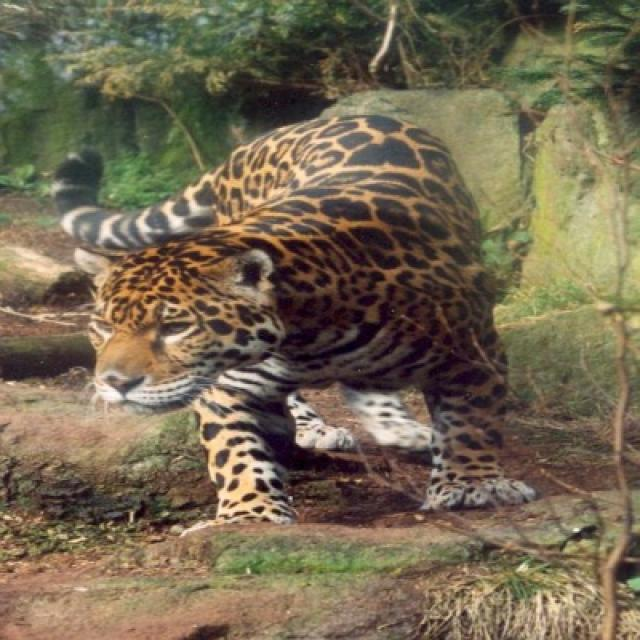Jaguar: (56, 114, 533, 526)
